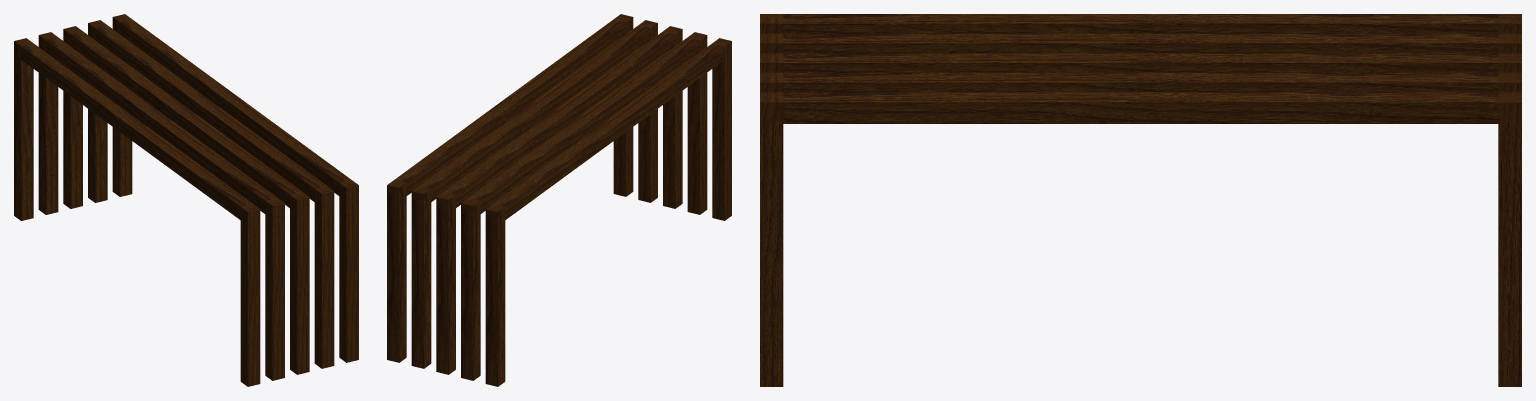
Rendered from benk1.fbx.
The picture shows the model from 3 angles, left to right: view 1: azimuth 30°, elevation 25°; view 2: azimuth 150°, elevation 25°; view 3: azimuth 270°, elevation 25°; orthographic projection. The views are drawn at different scales.
Visible parts, largest first — view 1: Cube; view 2: Cube; view 3: Cube.
Part boxes in pixels (bbox=[...]): Cube: bbox=[14, 14, 358, 386]; Cube: bbox=[387, 14, 731, 386]; Cube: bbox=[760, 14, 1521, 386].
Size of the model in its own units: 39.09 by 58.84 by 143.
